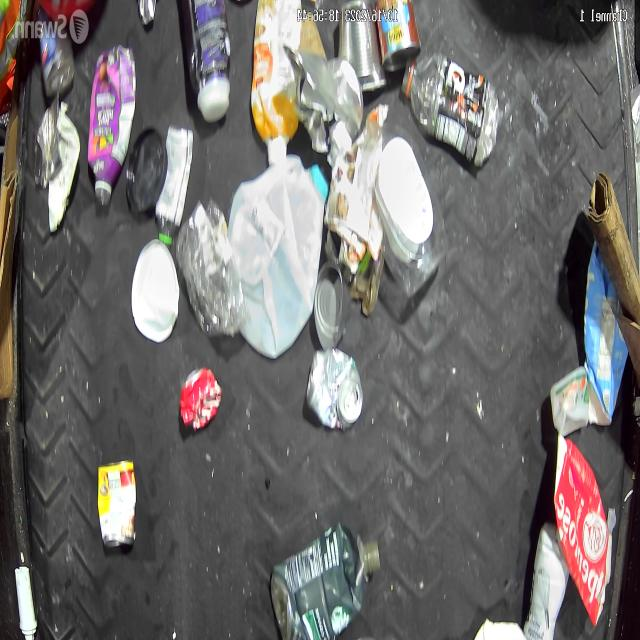can: (281, 42, 364, 154), (305, 348, 363, 431), (337, 0, 387, 92), (97, 457, 135, 551), (376, 0, 422, 71), (314, 260, 348, 350), (178, 366, 222, 432), (33, 93, 63, 188)
milk_jug: (230, 157, 328, 358)
non_white_jug: (583, 243, 628, 427), (250, 0, 299, 162), (88, 46, 136, 206)
plastic_bottle: (400, 50, 498, 170), (175, 196, 246, 338)
